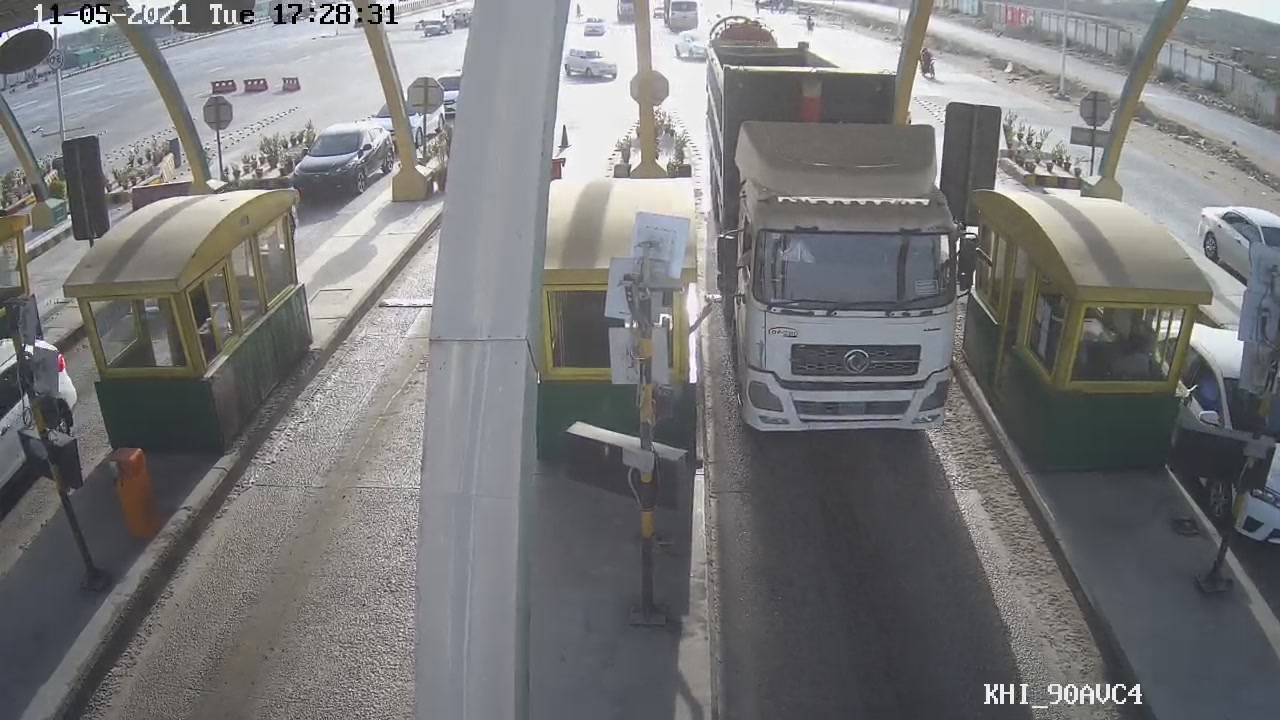F6: (705, 49, 992, 443)
